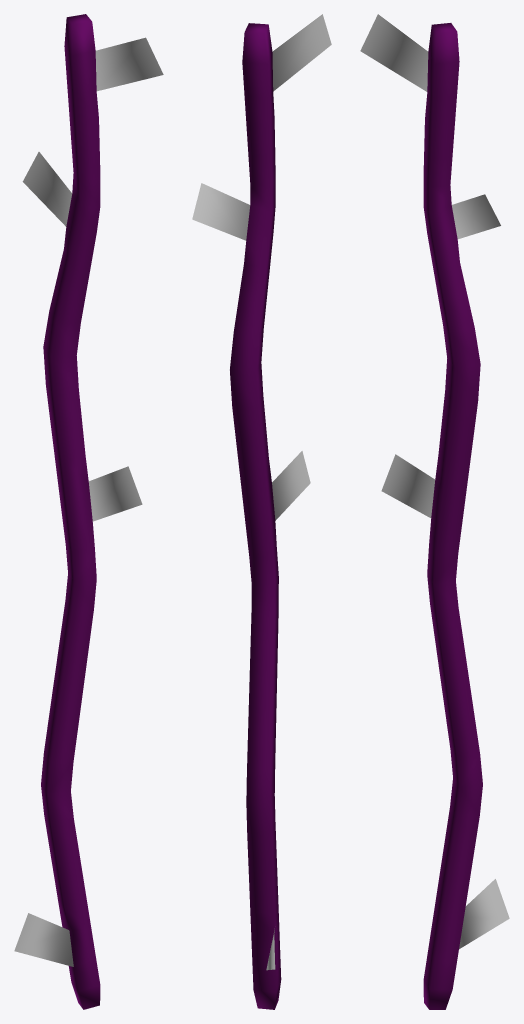
Rendered from taovun.fbx.
The picture shows the model from 3 angles, left to right: view 1: azimuth 90°, elevation 25°; view 2: azimuth 150°, elevation 25°; view 3: azimuth 270°, elevation 25°; orthographic projection.
Visible parts, largest first — view 1: Plane; view 2: Plane; view 3: Plane.
Boxes of the visible parts, x1=… form: Plane: x1=14, y1=14, x2=163, y2=1009; Plane: x1=192, y1=14, x2=331, y2=1009; Plane: x1=360, y1=14, x2=509, y2=1009.
Bounding box in the file's own units: 0.4654 × 0.7488 × 5.43.
